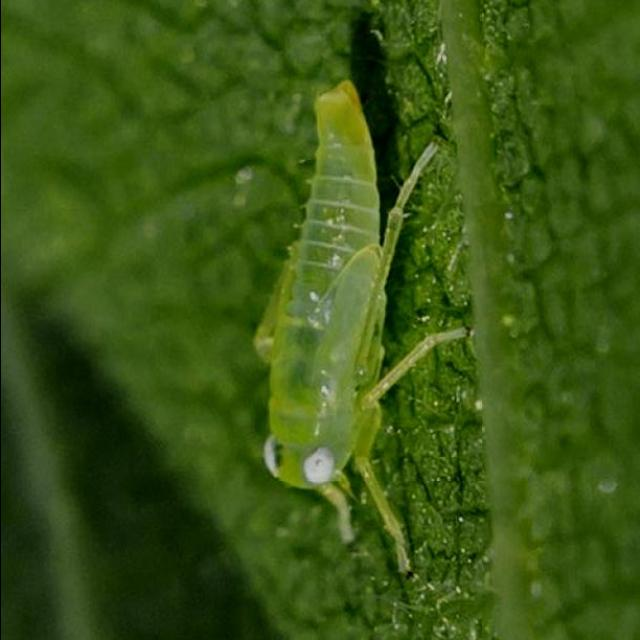green leaf hopper: (253, 81, 466, 570)
